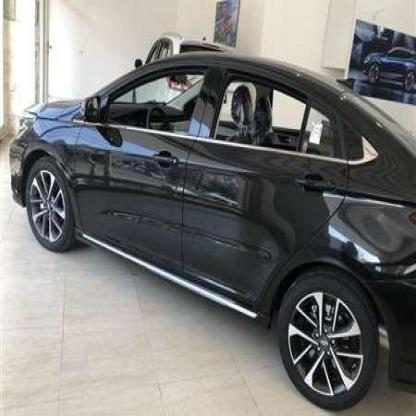Car: (3, 52, 416, 413), (133, 22, 239, 126), (364, 46, 416, 92)
